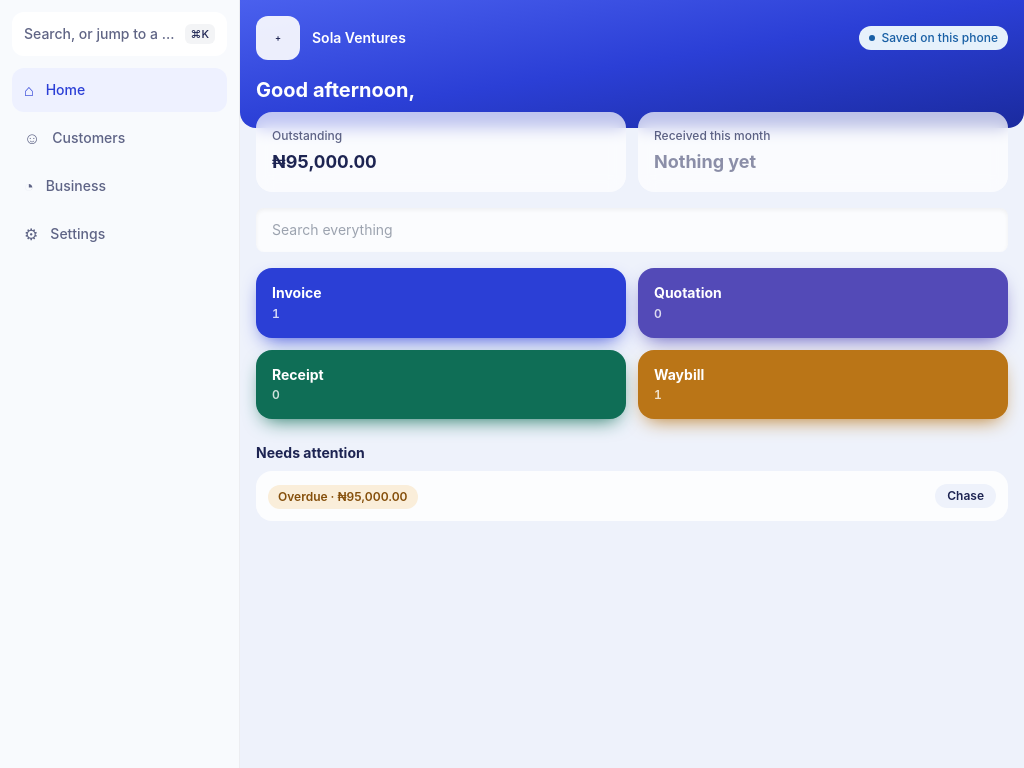
Test case: Home search replaces the body with results (§G, §D.3) › keeps the header, the stat cards and the field on screen while searching
The image size is (1024, 768).
Type "cement" into the search field labelled "Search everything" at (632, 230), box [256,208,1008,252]
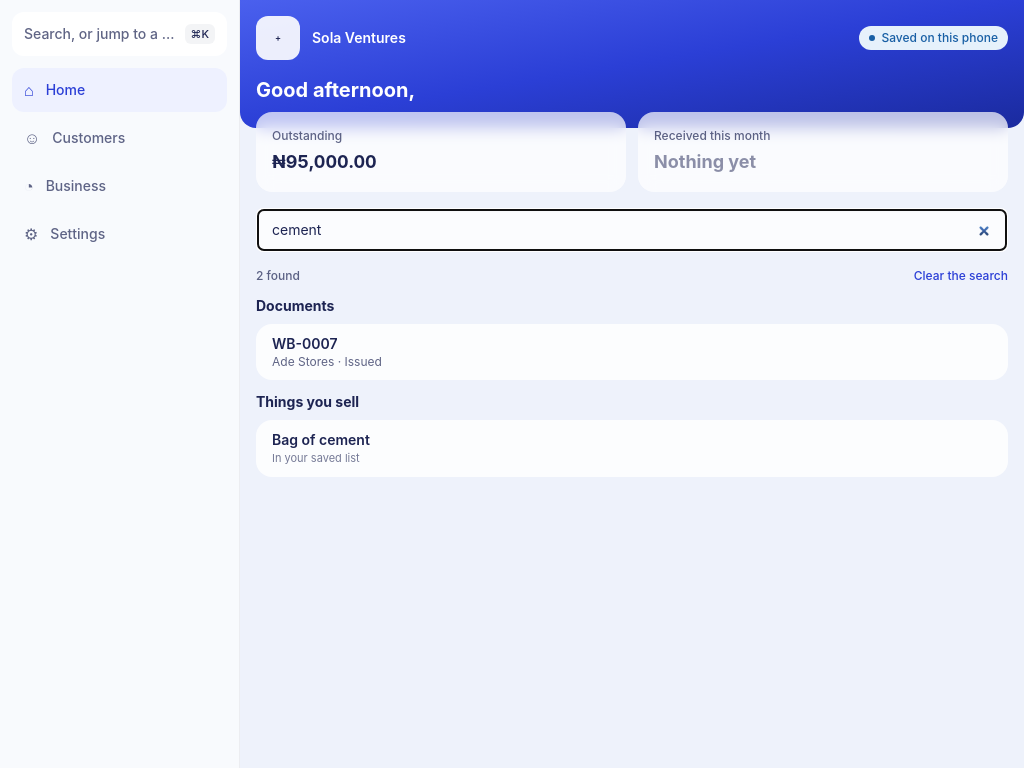
Expected: the text "Sola Ventures" is shown, [312,29,406,46]
Now the element labelled "Documents" is shown, box [256,296,1008,380]
